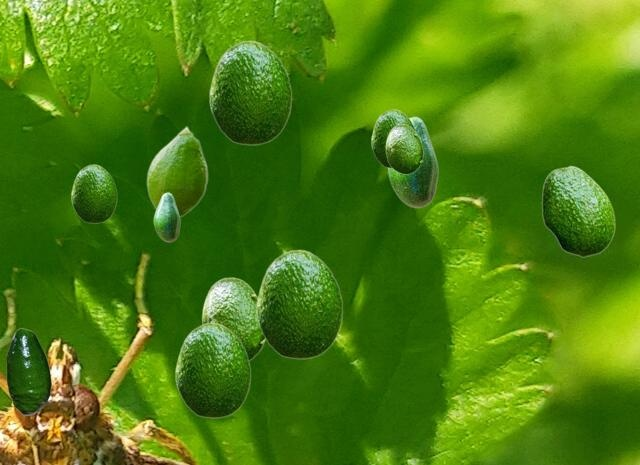avocado: (256, 249, 342, 358), (209, 40, 291, 144), (175, 322, 250, 417), (541, 165, 614, 256), (146, 125, 207, 216), (201, 277, 265, 360), (387, 116, 437, 207), (6, 328, 50, 414), (371, 109, 416, 167), (71, 164, 116, 222), (385, 124, 422, 173), (153, 192, 179, 241)
